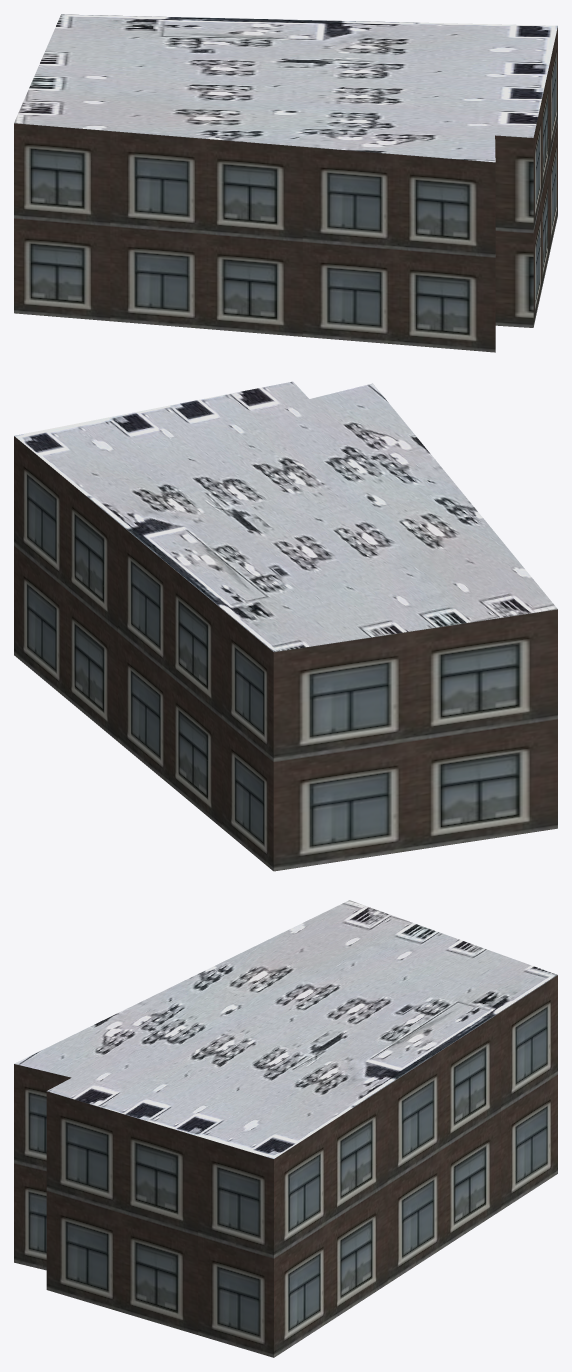
Rendered from ResTex__235.fbx.
The picture shows the model from 3 angles, top to bottom: view 1: azimuth 30°, elevation 25°; view 2: azimuth 150°, elevation 25°; view 3: azimuth 270°, elevation 25°; orthographic projection. The views are drawn at different scales.
Visible parts, largest first — view 1: CityEngineMaterial_16_m, CityEngineMaterial_15_m; view 2: CityEngineMaterial_16_m, CityEngineMaterial_15_m; view 3: CityEngineMaterial_16_m, CityEngineMaterial_15_m.
Boxes of the visible parts, bbox=[...] form: CityEngineMaterial_16_m: bbox=[14, 27, 557, 352]; CityEngineMaterial_15_m: bbox=[14, 14, 557, 162]; CityEngineMaterial_16_m: bbox=[14, 436, 557, 871]; CityEngineMaterial_15_m: bbox=[14, 381, 557, 651]; CityEngineMaterial_16_m: bbox=[14, 975, 557, 1357]; CityEngineMaterial_15_m: bbox=[14, 900, 557, 1158].
Size of the model in its own units: 16.77 by 6 by 14.88.
Materials: 2 (2 with a texture image).
